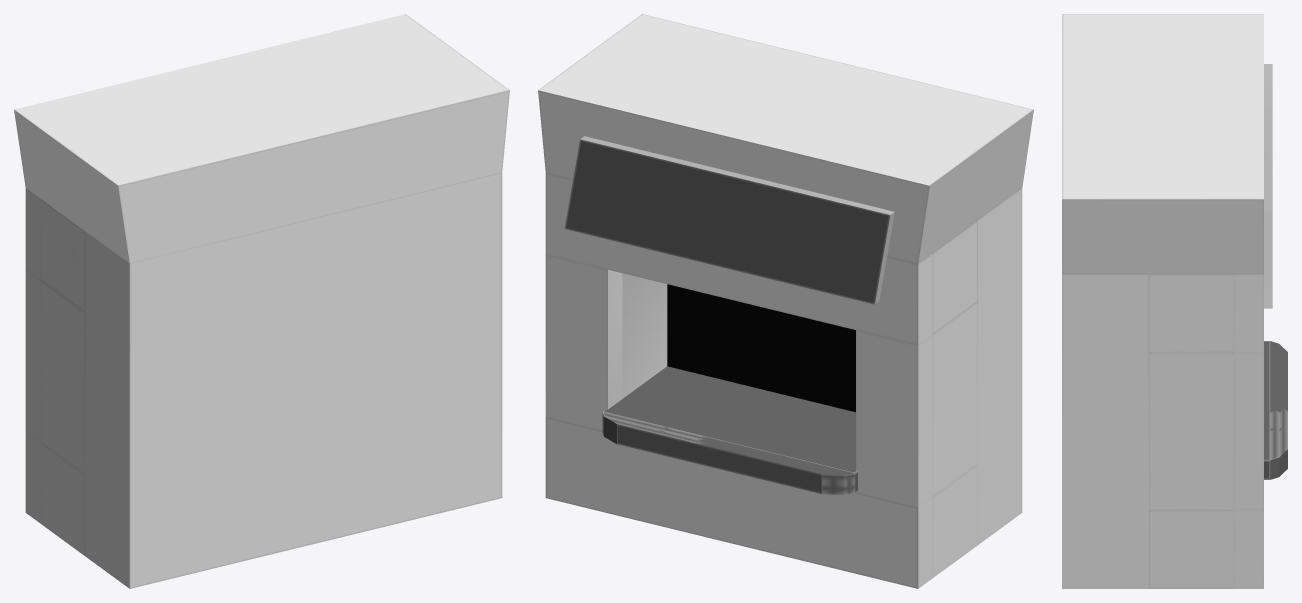
Rendered from okno życia.fbx.
The picture shows the model from 3 angles, left to right: view 1: azimuth 30°, elevation 25°; view 2: azimuth 150°, elevation 25°; view 3: azimuth 270°, elevation 25°; orthographic projection. The views are drawn at different scales.
Parts seen in each view (by area): view 1: cuboid_9, cuboid_11, cuboid_7, cuboid_6, cuboid_5, cuboid_2, cuboid, cuboid_4; view 2: cuboid_11, cuboid_10, cuboid_9, cuboid, cuboid_1, cuboid_4, cuboid_2, cuboid_3, cuboid_7, cuboid_8, cuboid_6, cuboid_5; view 3: cuboid_11, cuboid_9, cuboid_8, cuboid_5, cuboid_6, cuboid_3, cuboid_1, cuboid_4, cuboid, cuboid_10.
Part boxes in pixels (<box>): cuboid_9: <box>85,173,502,588</box>; cuboid_11: <box>14,14,509,263</box>; cuboid_7: <box>40,280,84,474</box>; cuboid_6: <box>40,199,84,312</box>; cuboid_5: <box>40,443,84,555</box>; cuboid_2: <box>25,269,41,442</box>; cuboid: <box>25,432,41,522</box>; cuboid_4: <box>25,188,41,279</box>; cuboid_11: <box>538,14,1033,263</box>; cuboid_10: <box>564,136,894,304</box>; cuboid_9: <box>667,188,1022,544</box>; cuboid: <box>545,417,932,588</box>; cuboid_1: <box>602,366,857,495</box>; cuboid_4: <box>545,173,932,345</box>; cuboid_2: <box>856,330,933,507</box>; cuboid_3: <box>545,254,622,430</box>; cuboid_7: <box>932,302,977,496</box>; cuboid_8: <box>622,273,667,398</box>; cuboid_6: <box>932,221,977,334</box>; cuboid_5: <box>932,464,977,577</box>; cuboid_11: <box>1062,14,1263,274</box>; cuboid_9: <box>1062,274,1148,588</box>; cuboid_8: <box>1149,353,1235,510</box>; cuboid_5: <box>1149,510,1235,588</box>; cuboid_6: <box>1149,274,1235,352</box>; cuboid_3: <box>1233,353,1263,510</box>; cuboid_1: <box>1264,341,1287,479</box>; cuboid_4: <box>1233,274,1263,352</box>; cuboid: <box>1233,510,1263,588</box>; cuboid_10: <box>1264,64,1272,308</box>.
Size of the model in its own units: 631 by 625 by 325.
1 material, 1 textured.
